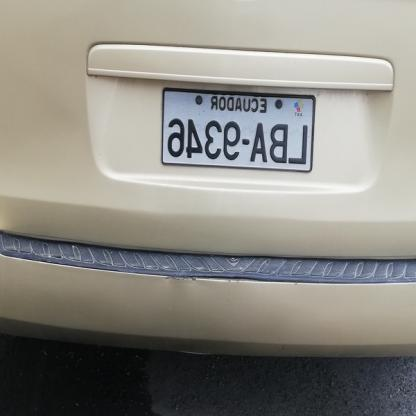Placa: (155, 88, 322, 180)
